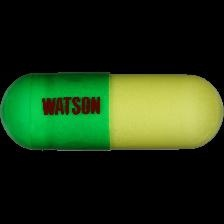33261-922: (0, 0, 224, 224)
